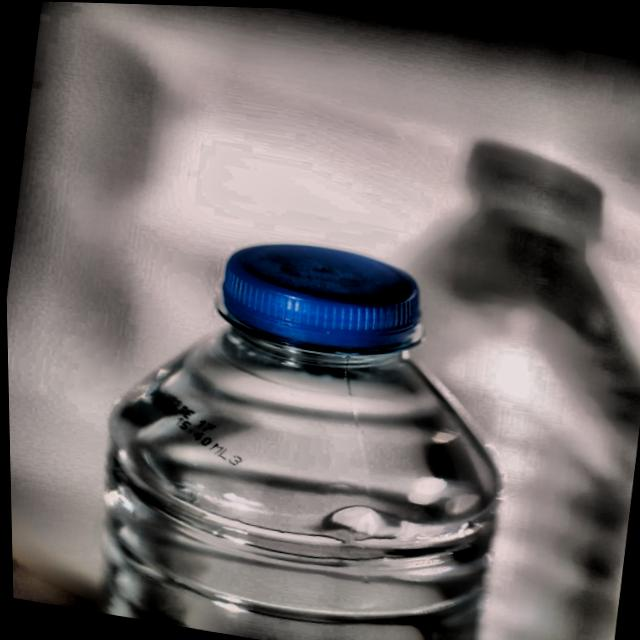Bottles: (37, 190, 554, 640)
